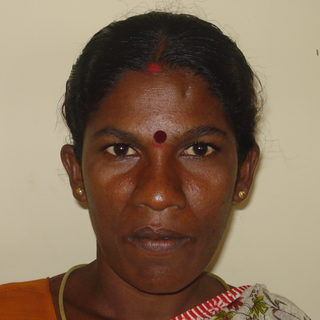eye: (179, 138, 224, 162), (100, 139, 142, 163)
